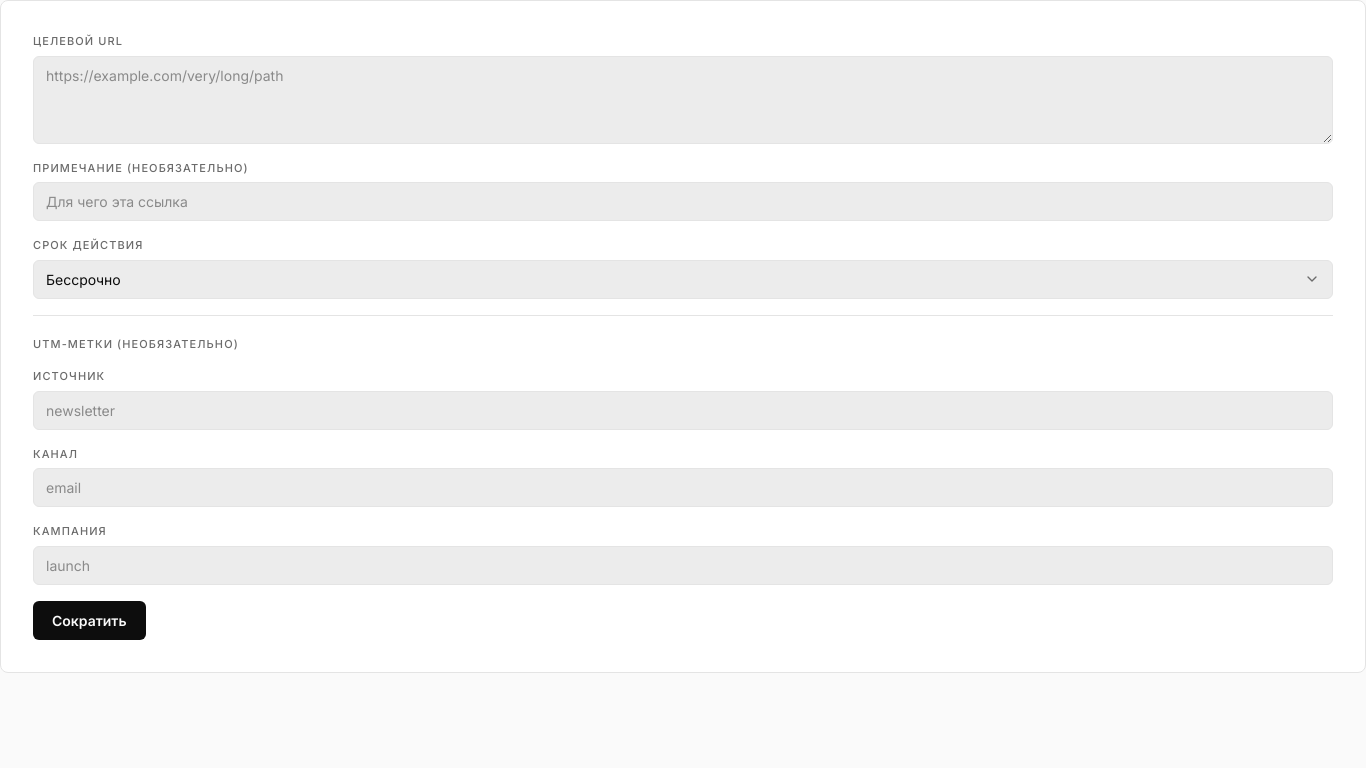
Scenario: ShortenPage › creates a link and shows the result
Type "https://example.com" into the text box labelled "Целевой URL" at (683, 100), box left=33, top=56, right=1333, bottom=144
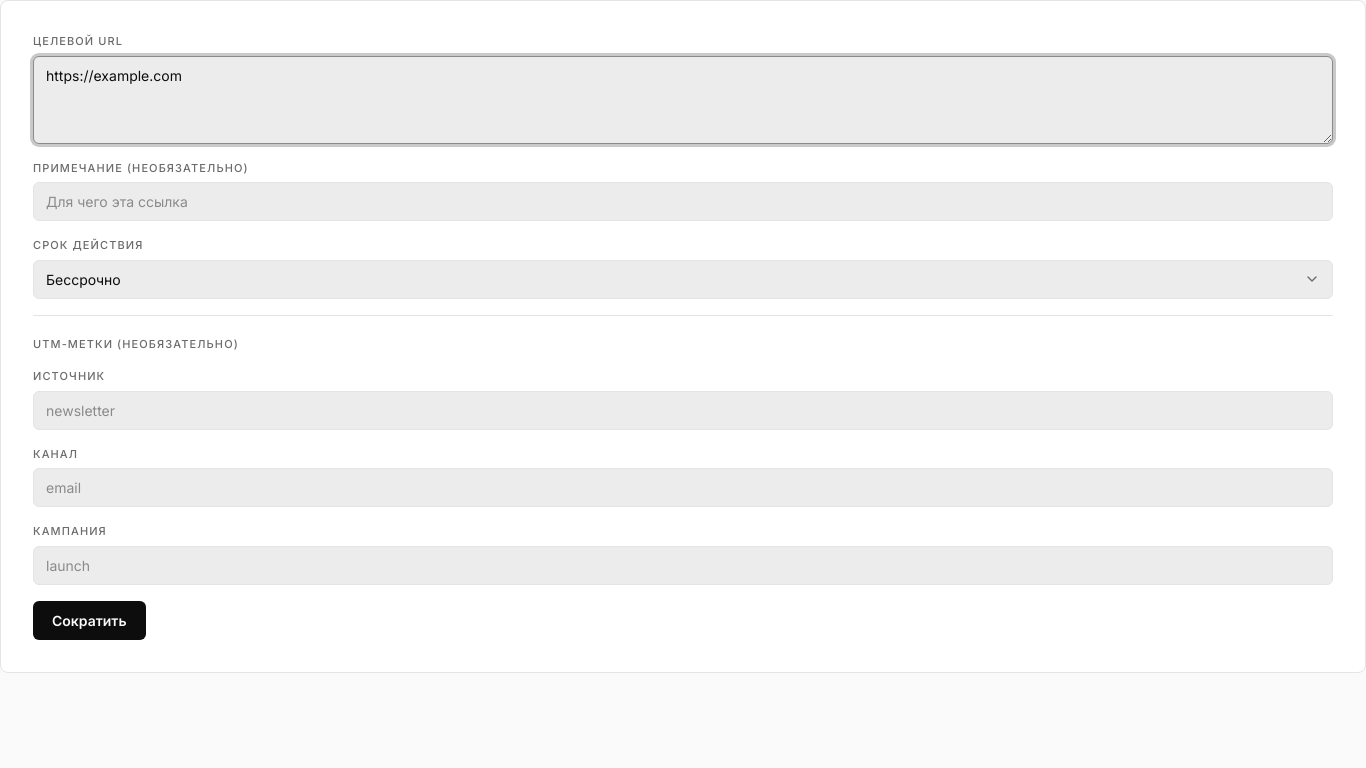
Click the button "Сократить" at (89, 620), box left=33, top=600, right=146, bottom=640
(page scrolled)
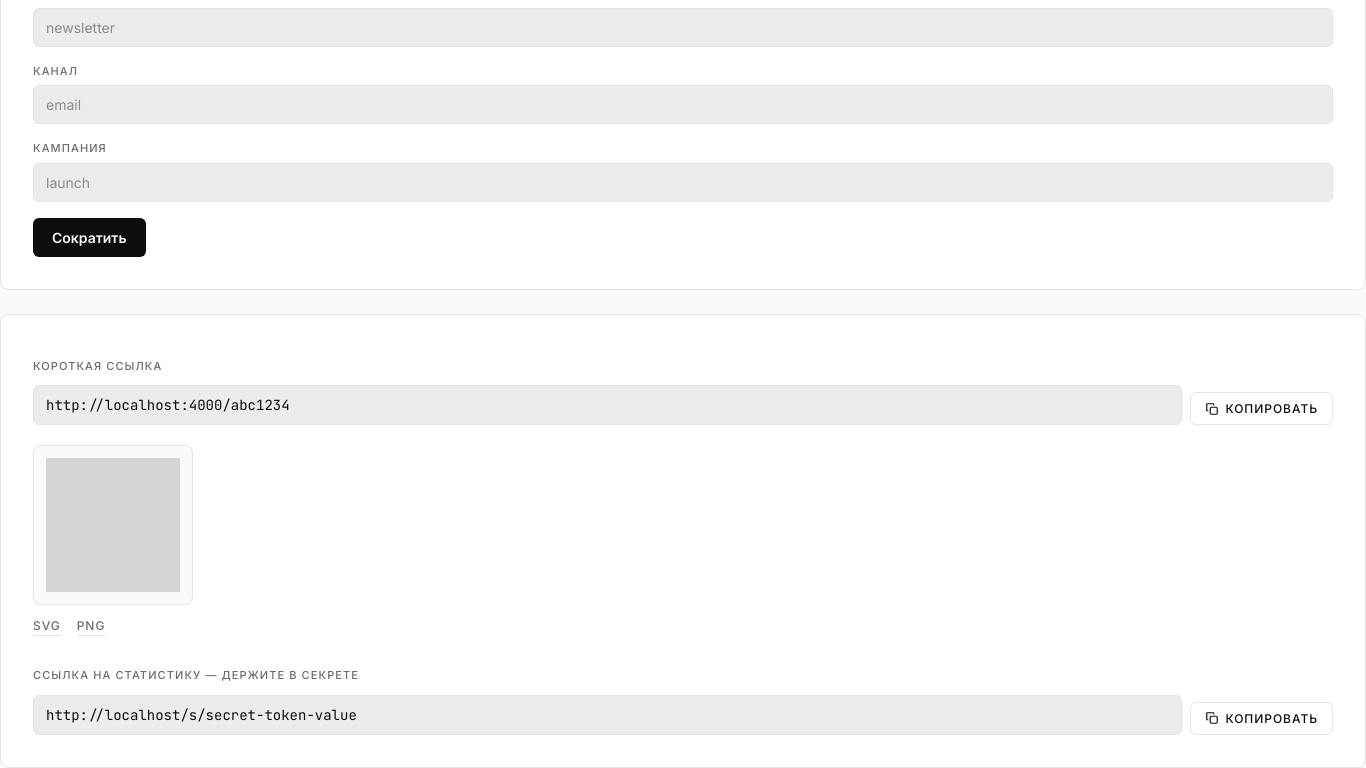
Check: the field showing "http://localhost:4000/abc1234" below "Короткая ссылка" is shown, box left=33, top=385, right=1182, bottom=425
